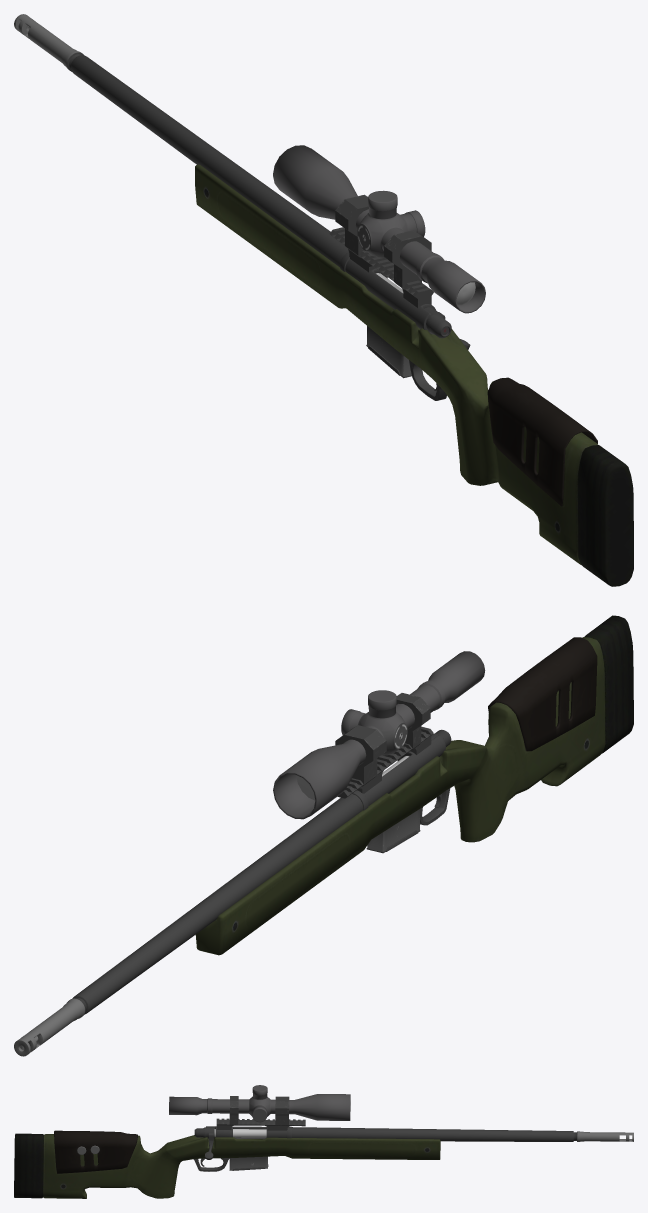
Rendered from sniper_hq.glb.
The picture shows the model from 3 angles, top to bottom: view 1: azimuth 30°, elevation 25°; view 2: azimuth 150°, elevation 25°; view 3: azimuth 270°, elevation 25°; orthographic projection. The views are drawn at different scales.
Parts seen in each view (by area): view 1: body_02___Default, body_03___Default, body_07___Default, mag_03___Default; view 2: body_02___Default, body_07___Default, body_03___Default, mag_03___Default; view 3: body_02___Default, body_07___Default, body_03___Default, mag_03___Default.
Part boxes in pixels (x1,y1,x2,y2): body_02___Default: (195, 145, 633, 586); body_03___Default: (329, 194, 597, 506); body_07___Default: (14, 14, 445, 334); mag_03___Default: (366, 326, 411, 378); body_02___Default: (195, 615, 633, 955); body_07___Default: (14, 733, 445, 1056); body_03___Default: (335, 637, 597, 825); mag_03___Default: (366, 809, 420, 853); body_02___Default: (14, 1085, 440, 1198); body_07___Default: (203, 1126, 633, 1149); body_03___Default: (54, 1096, 305, 1173); mag_03___Default: (229, 1156, 268, 1170).
Size of the model in its own units: 0.0629 by 0.2203 by 1.13.
3 materials, 3 textured.
